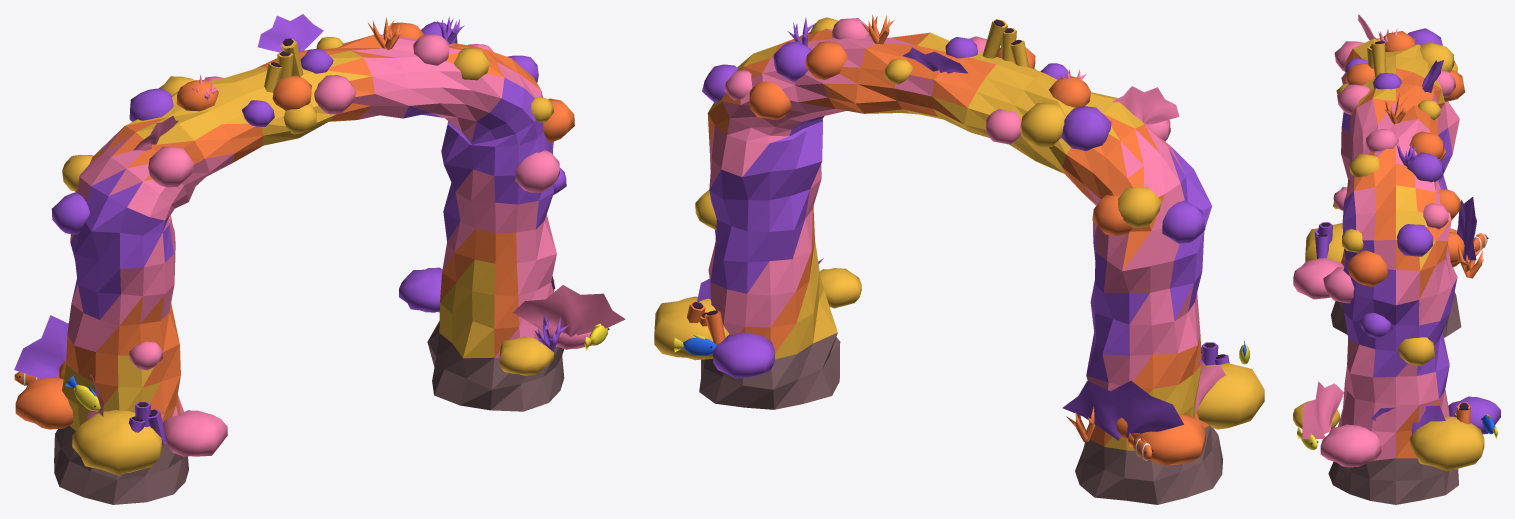
File: disc-coral-arch.glb
3 renders of one model, left to right at view 1: azimuth 30°, elevation 25°; view 2: azimuth 150°, elevation 25°; view 3: azimuth 270°, elevation 25°, orthographic. The views are drawn at different scales.
Visible parts, largest first — view 1: Mesh_ArchCoralPink, Mesh_ArchCoralOrange, Mesh_ArchCoralPurple, Mesh_ArchCoralGold, Mesh_ArchCoralRock, Mesh_BrainCoral0, Mesh_SeaFan3, Mesh_BrainCoral1, Mesh_BrainCoral2, Mesh_SeaFan2, Mesh_BrainCoral6, Mesh_BrainCoral4 (+15 smaller); view 2: Mesh_ArchCoralPink, Mesh_ArchCoralPurple, Mesh_ArchCoralOrange, Mesh_ArchCoralRock, Mesh_ArchCoralGold, Mesh_SeaFan2, Mesh_BrainCoral0, Mesh_BrainCoral3, Mesh_BrainCoral4, Mesh_BrainCoral2, Mesh_CoralKnob6, Mesh_CoralKnob7 (+13 smaller); view 3: Mesh_ArchCoralPink, Mesh_ArchCoralPurple, Mesh_ArchCoralOrange, Mesh_ArchCoralRock, Mesh_BrainCoral3, Mesh_ArchCoralGold, Mesh_BrainCoral5, Mesh_SeaFan3, Mesh_BrainCoral1, Mesh_CoralKnob24, Mesh_CoralKnob22, Mesh_SeaFan2 (+28 smaller).
Part boxes in pixels (x1=…): Mesh_ArchCoralPink: x1=67, y1=34, x2=556, y2=443; Mesh_ArchCoralOrange: x1=66, y1=35, x2=540, y2=422; Mesh_ArchCoralPurple: x1=70, y1=78, x2=553, y2=319; Mesh_ArchCoralGold: x1=62, y1=50, x2=499, y2=430; Mesh_ArchCoralRock: x1=54, y1=321, x2=564, y2=504; Mesh_BrainCoral0: x1=72, y1=410, x2=162, y2=475; Mesh_SeaFan3: x1=513, y1=285, x2=625, y2=337; Mesh_BrainCoral1: x1=163, y1=410, x2=227, y2=456; Mesh_BrainCoral2: x1=15, y1=377, x2=73, y2=429; Mesh_SeaFan2: x1=14, y1=315, x2=68, y2=378; Mesh_BrainCoral6: x1=499, y1=336, x2=553, y2=375; Mesh_BrainCoral4: x1=399, y1=267, x2=442, y2=312; Mesh_ArchCoralPink: x1=708, y1=29, x2=1200, y2=429; Mesh_ArchCoralPurple: x1=709, y1=116, x2=1211, y2=382; Mesh_ArchCoralOrange: x1=707, y1=28, x2=1209, y2=446; Mesh_ArchCoralRock: x1=699, y1=332, x2=1222, y2=504; Mesh_ArchCoralGold: x1=708, y1=32, x2=1201, y2=450; Mesh_SeaFan2: x1=1062, y1=381, x2=1183, y2=440; Mesh_BrainCoral0: x1=1196, y1=363, x2=1264, y2=429; Mesh_BrainCoral3: x1=654, y1=296, x2=729, y2=360; Mesh_BrainCoral4: x1=713, y1=332, x2=774, y2=378; Mesh_BrainCoral2: x1=1134, y1=414, x2=1205, y2=465; Mesh_CoralKnob6: x1=1061, y1=106, x2=1111, y2=150; Mesh_CoralKnob7: x1=1020, y1=102, x2=1066, y2=147; Mesh_ArchCoralPink: x1=1338, y1=66, x2=1459, y2=460; Mesh_ArchCoralPurple: x1=1341, y1=112, x2=1457, y2=398; Mesh_ArchCoralOrange: x1=1340, y1=49, x2=1451, y2=458; Mesh_ArchCoralRock: x1=1328, y1=292, x2=1461, y2=504; Mesh_BrainCoral3: x1=1409, y1=416, x2=1484, y2=471; Mesh_ArchCoralGold: x1=1353, y1=38, x2=1444, y2=270; Mesh_BrainCoral5: x1=1320, y1=424, x2=1381, y2=467; Mesh_SeaFan3: x1=1302, y1=381, x2=1343, y2=439; Mesh_BrainCoral1: x1=1293, y1=258, x2=1344, y2=299; Mesh_CoralKnob24: x1=1347, y1=250, x2=1388, y2=286; Mesh_CoralKnob22: x1=1397, y1=224, x2=1433, y2=256; Mesh_SeaFan2: x1=1457, y1=197, x2=1476, y2=261.
Bounding box in the file's own units: 16.67 × 11.91 × 6.49.
